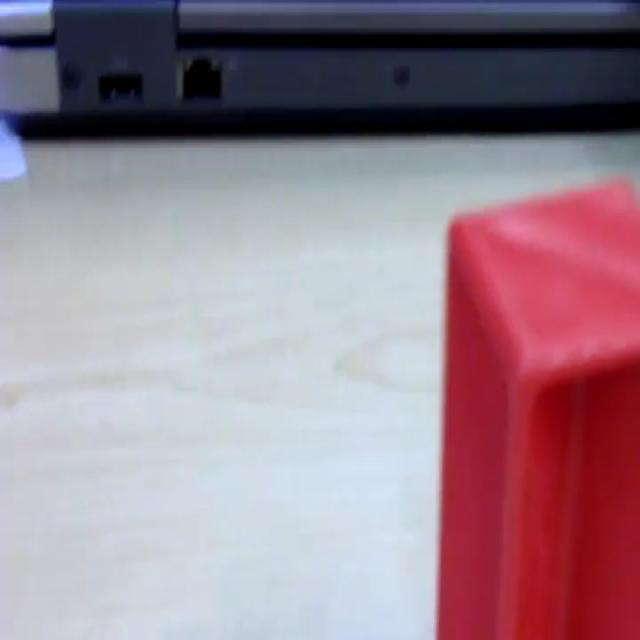red_block: (435, 173, 639, 636)
